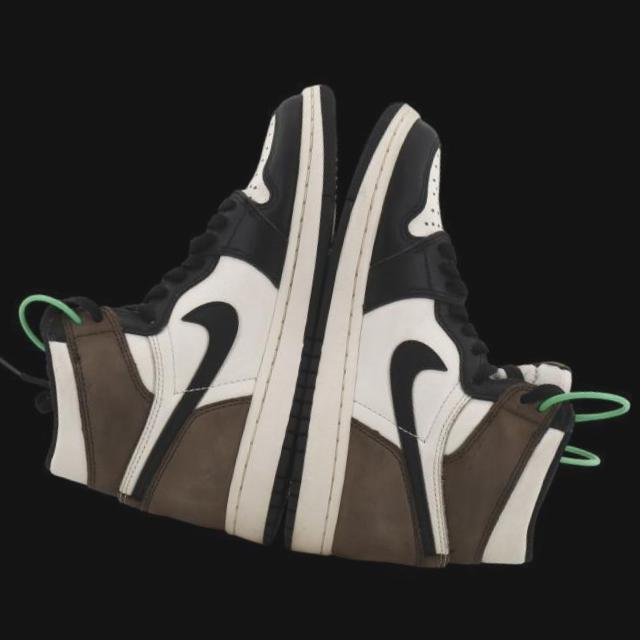nike_original_jordan: (8, 44, 357, 553), (272, 93, 612, 600)
